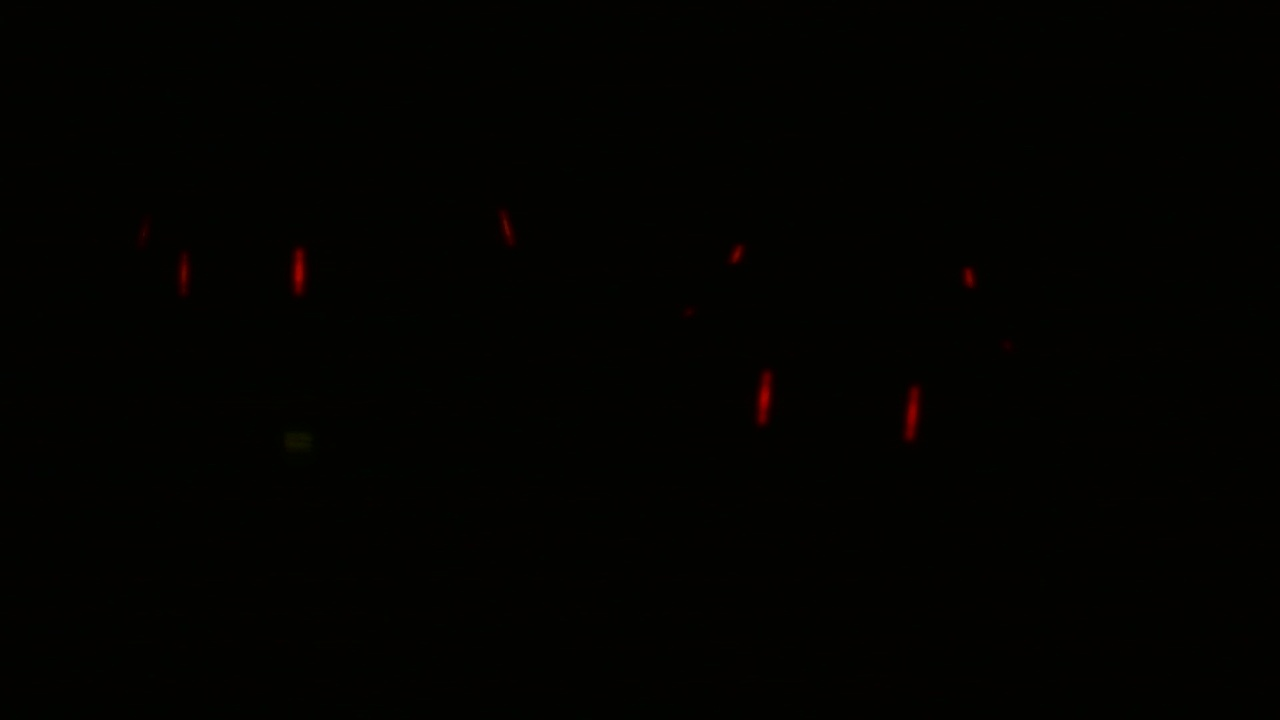pair1: (756, 355, 926, 455), (164, 234, 309, 302)
